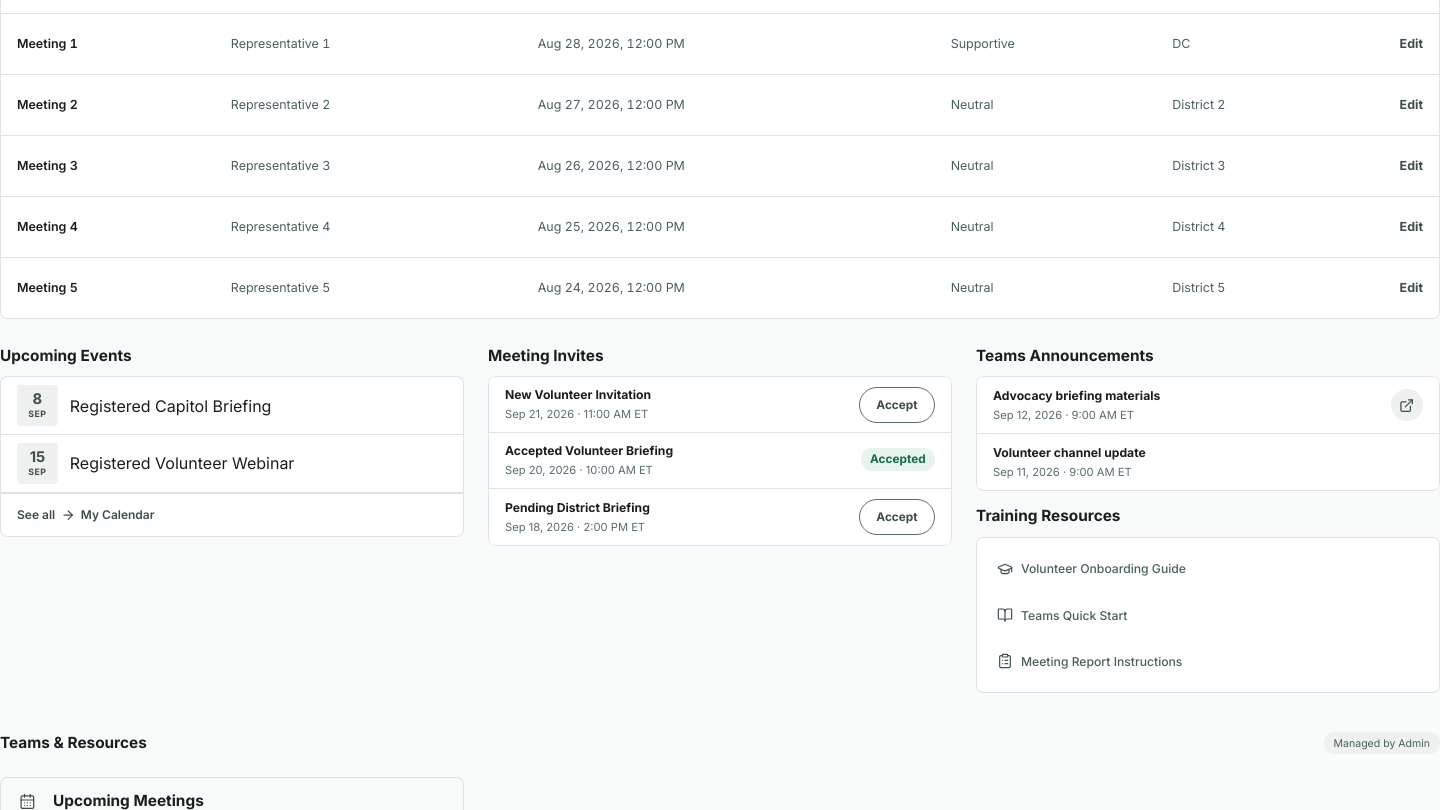
Scenario: opens Event details only from an Upcoming Event title
(page scrolled)
Click the button "Registered Capitol Briefing": (171, 406) [70,396,271,416]
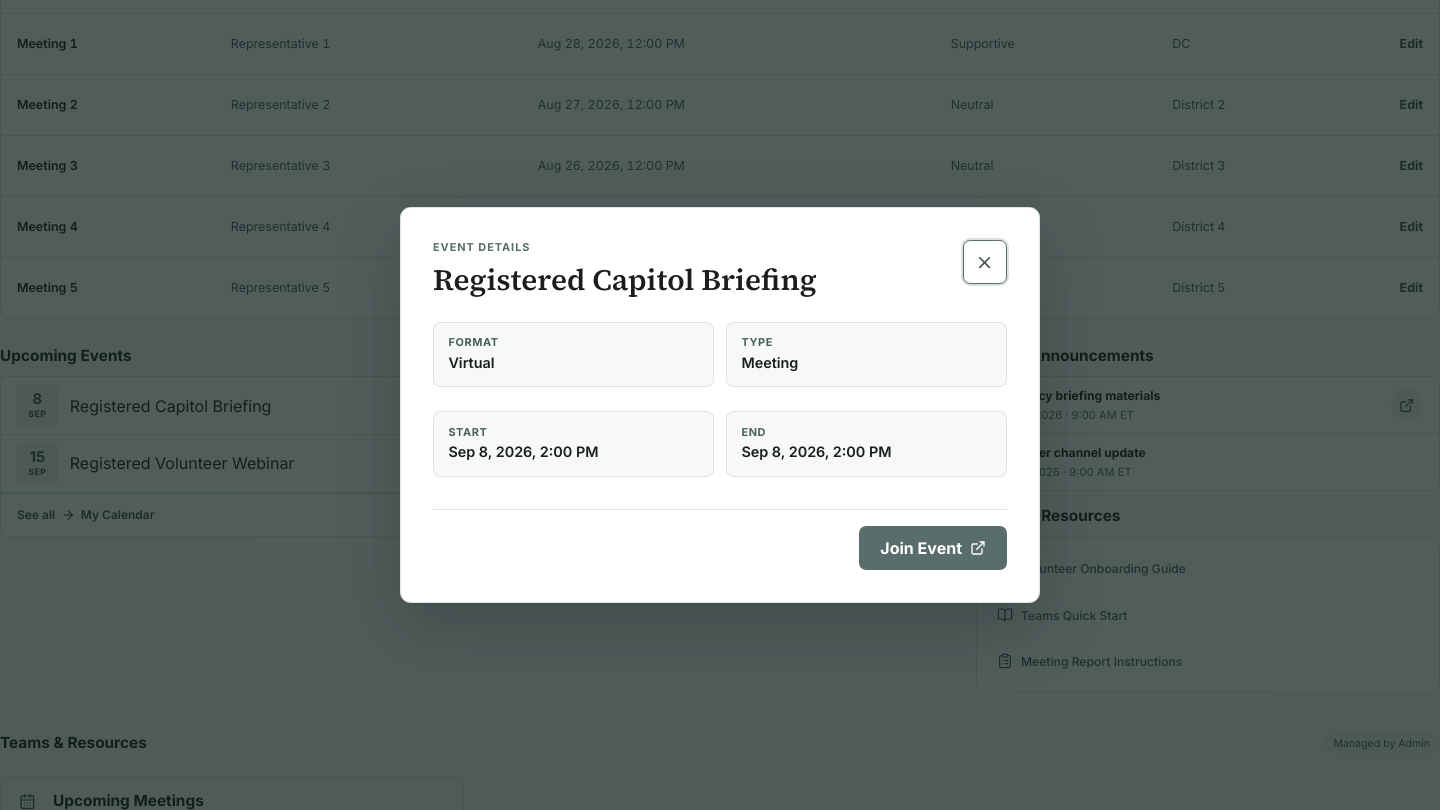
Expected: the text "Virtual" is shown, [448,354,494,371]
Expected: the text "Meeting" is shown, [741,354,798,371]
